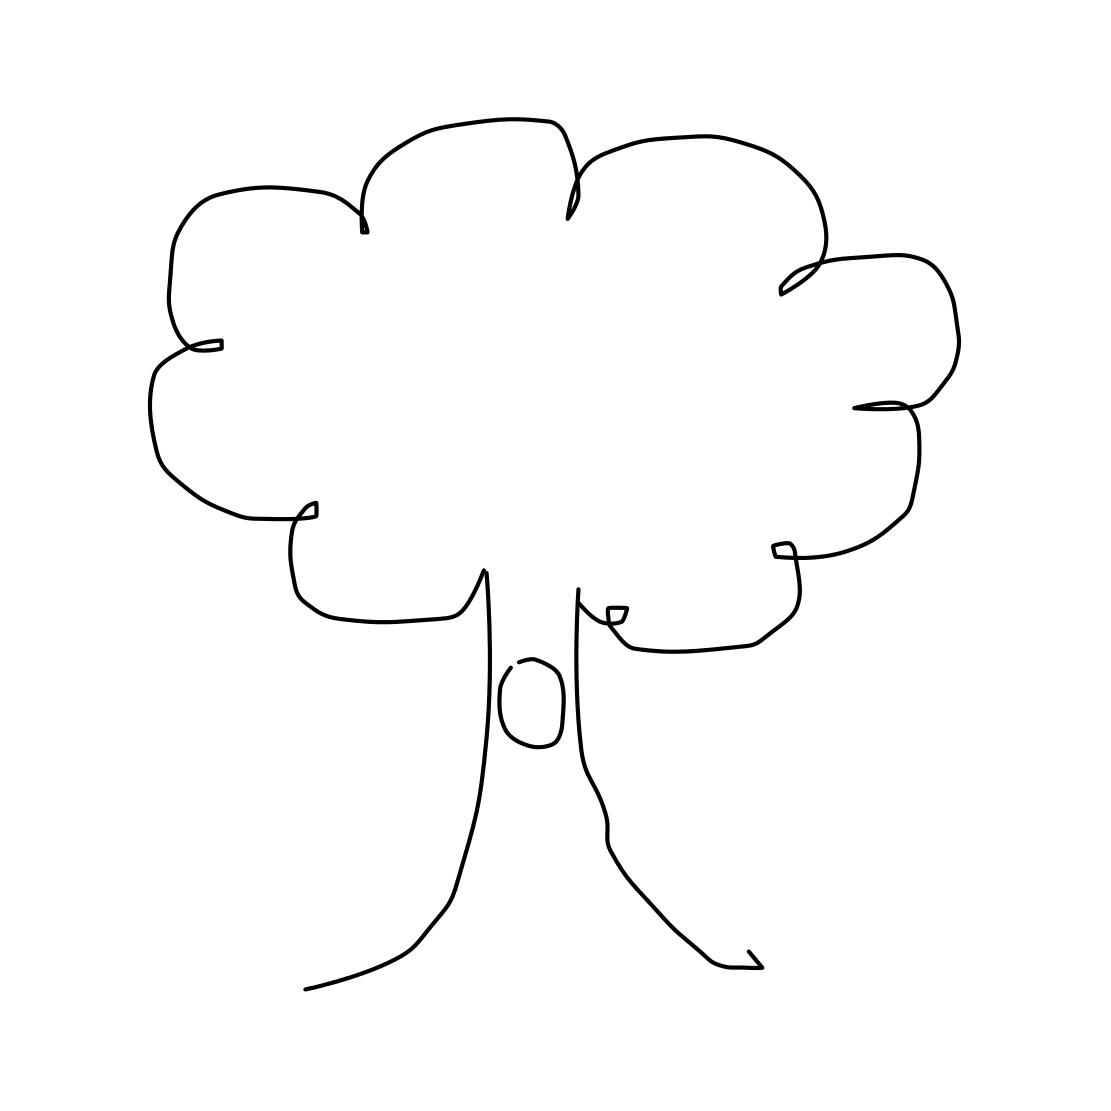Tree: (110, 87, 986, 1005)
